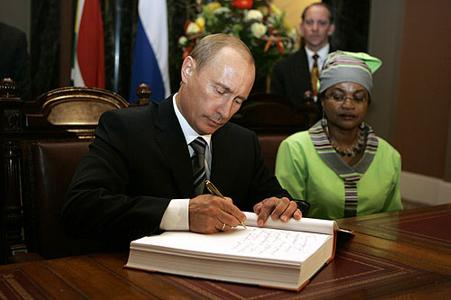person: (62, 35, 304, 253)
